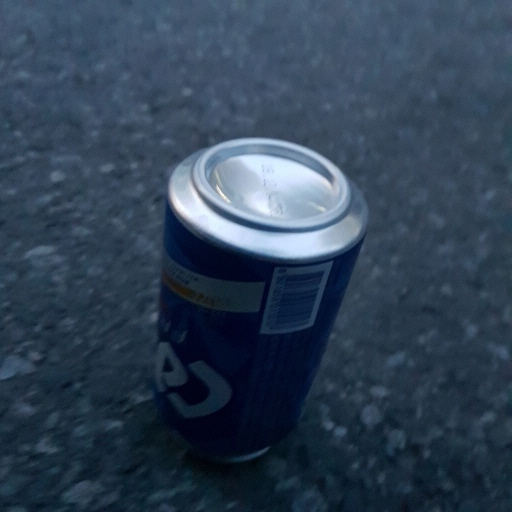Metal_0: (148, 137, 370, 462)
